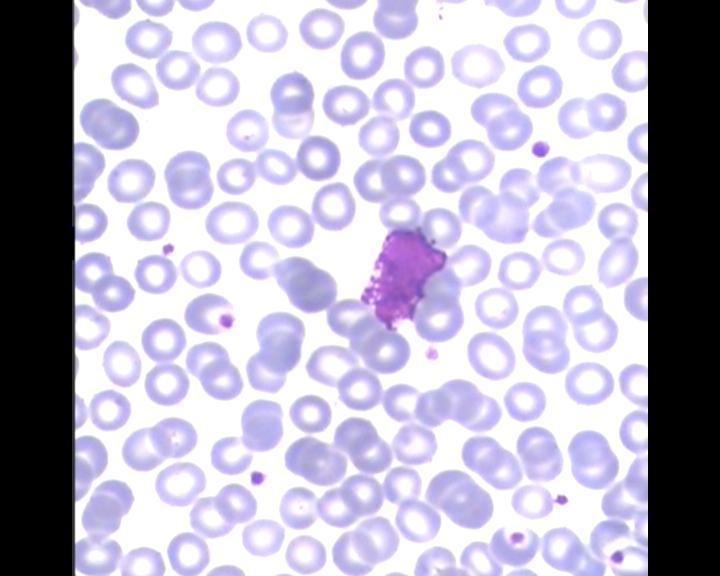baso: (355, 222, 453, 334)
